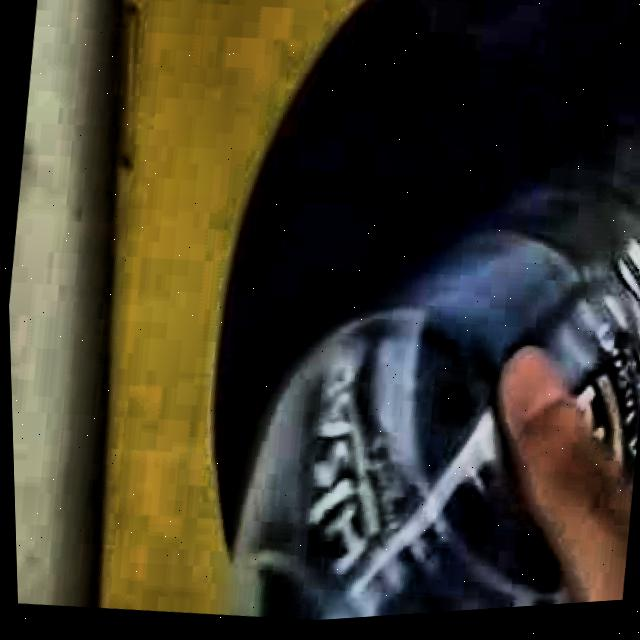plastic: (223, 217, 640, 624)
